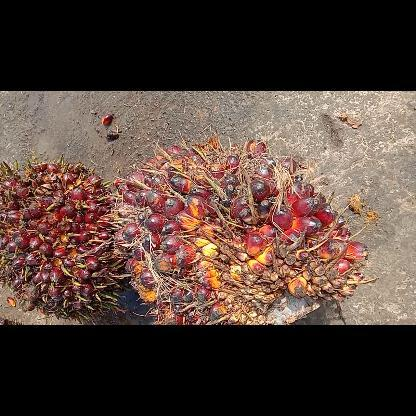Kurang masak: (0, 154, 124, 324)
TBS masak: (110, 132, 374, 324)
